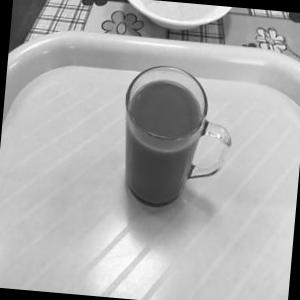coffee: (96, 55, 238, 222)
